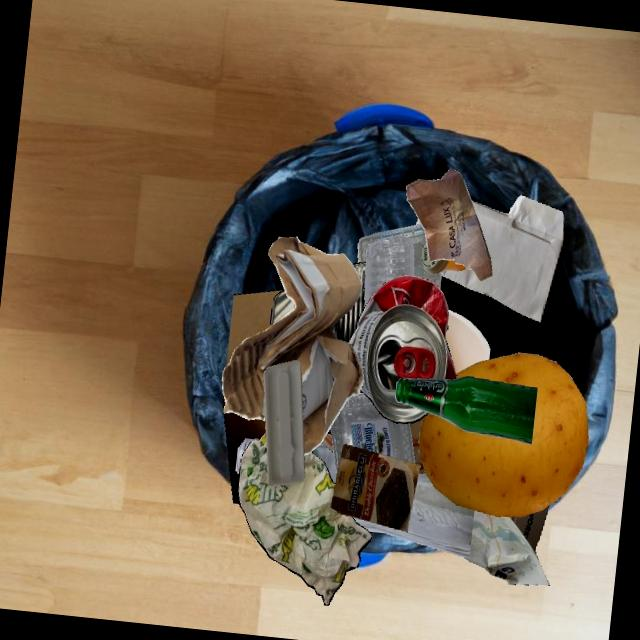biowaste: (418, 352, 588, 516)
cardboard: (222, 237, 363, 454), (225, 291, 320, 443), (330, 444, 419, 531)
combustible waste: (332, 354, 466, 471)
glass: (353, 472, 474, 558), (394, 376, 536, 444)
metal: (347, 275, 457, 423), (274, 312, 361, 432)
paper: (237, 432, 372, 605), (441, 195, 563, 322), (406, 168, 492, 281), (462, 505, 549, 584)
plastic: (330, 392, 414, 476), (357, 223, 441, 288), (263, 360, 304, 486), (364, 235, 413, 308), (421, 241, 466, 274)
